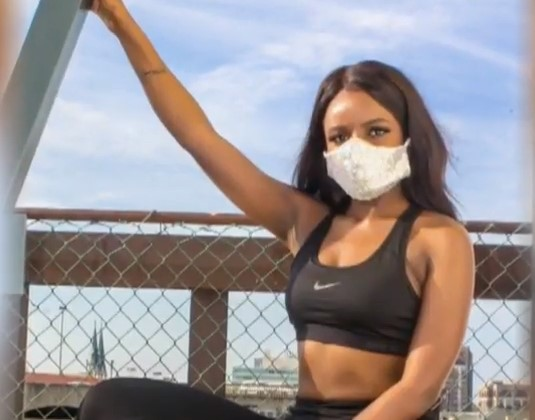face_with_mask: (320, 64, 420, 202)
